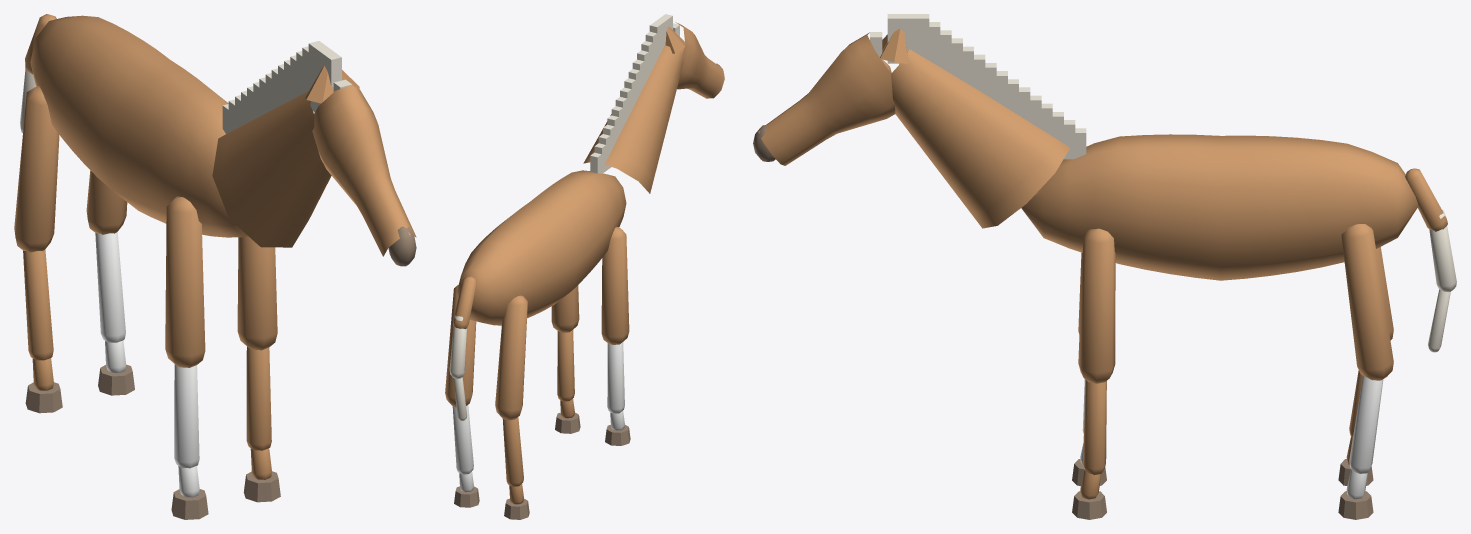
The model's file is riding-horse-standing-chestnut.glb.
3 renders of one model, left to right at view 1: azimuth 30°, elevation 25°; view 2: azimuth 150°, elevation 25°; view 3: azimuth 270°, elevation 25°, orthographic. The views are drawn at different scales.
Parts seen in each view (by area): view 1: horse-standing-chestnut; view 2: horse-standing-chestnut; view 3: horse-standing-chestnut.
Part boxes in pixels (x1,y1,x2,y2): horse-standing-chestnut: (14, 14, 416, 519); horse-standing-chestnut: (445, 14, 724, 519); horse-standing-chestnut: (753, 14, 1456, 519).
Bounding box in the file's own units: 0.4689 × 2.17 × 2.89.
